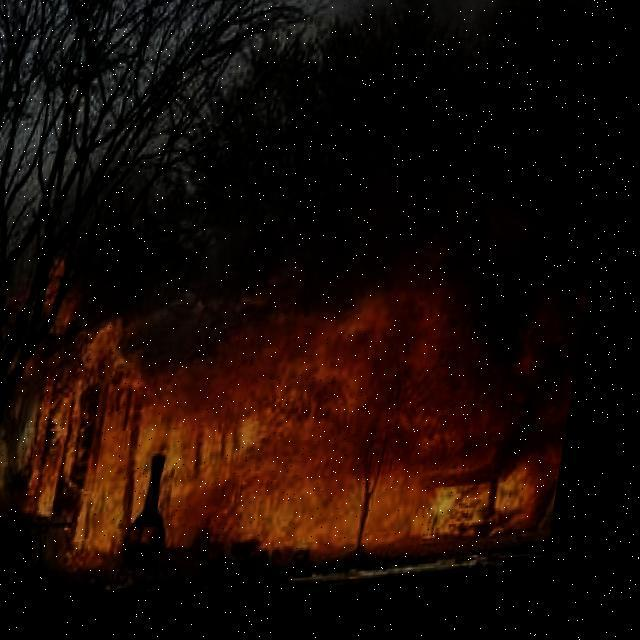Fire: (10, 230, 598, 580)
